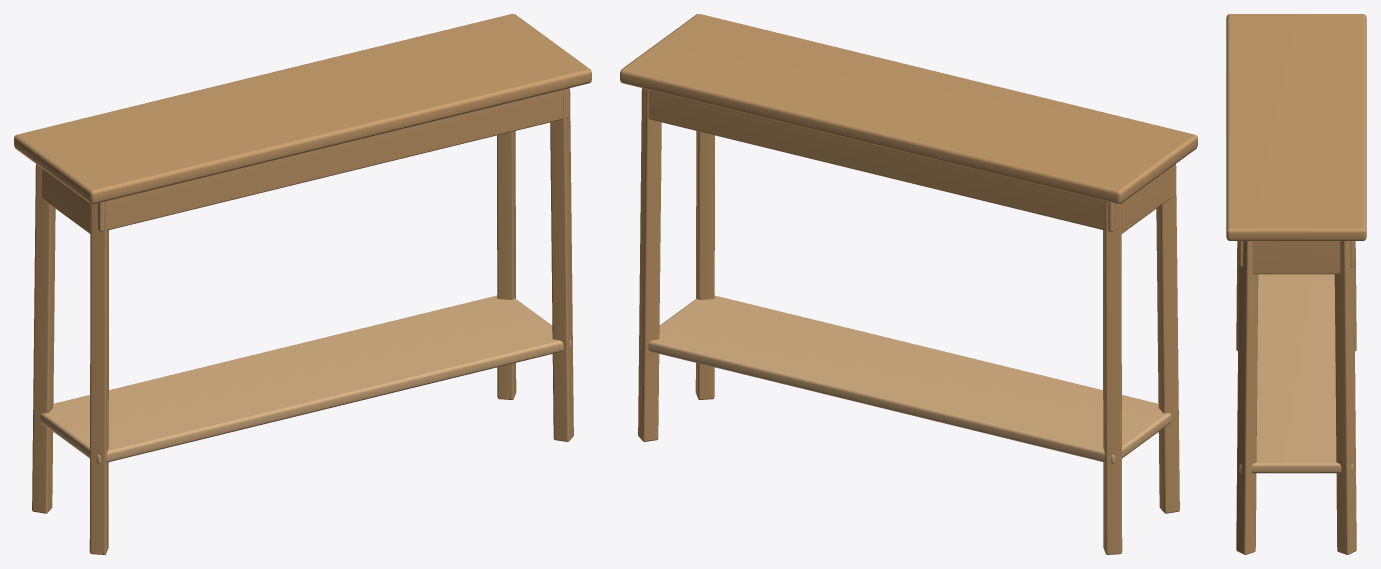
The model's file is entry-console.glb.
The picture shows the model from 3 angles, left to right: view 1: azimuth 30°, elevation 25°; view 2: azimuth 150°, elevation 25°; view 3: azimuth 270°, elevation 25°; orthographic projection. The views are drawn at different scales.
Parts seen in each view (by area): view 1: catalog_surface_RealismUV; view 2: catalog_surface_RealismUV; view 3: catalog_surface_RealismUV.
Boxes of the visible parts, left/top/right/bottom form: catalog_surface_RealismUV: left=14, top=14, right=591, bottom=554; catalog_surface_RealismUV: left=620, top=14, right=1197, bottom=554; catalog_surface_RealismUV: left=1226, top=14, right=1366, bottom=554.
Size of the model in its own units: 1.1 by 0.78 by 0.3.
